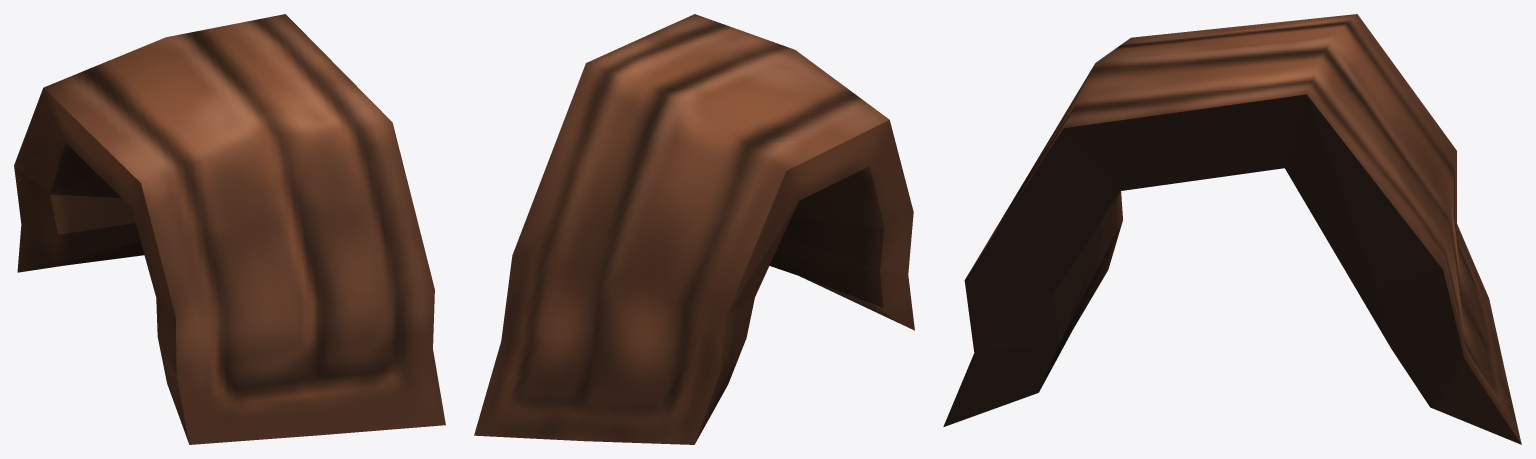
Rendered from leather_shoulder_drop.fbx.
3 views of the same model, side by side, from view 1: azimuth 30°, elevation 25°; view 2: azimuth 150°, elevation 25°; view 3: azimuth 270°, elevation 25° (orthographic). The views are drawn at different scales.
Visible parts, largest first — view 1: lthset/shoulders; view 2: lthset/shoulders; view 3: lthset/shoulders.
Boxes of the visible parts, bbox=[...] form: lthset/shoulders: bbox=[14, 14, 445, 444]; lthset/shoulders: bbox=[474, 14, 914, 444]; lthset/shoulders: bbox=[943, 14, 1521, 444].
Bounding box in the file's own units: 0.1479 × 0.1795 × 0.2753.
